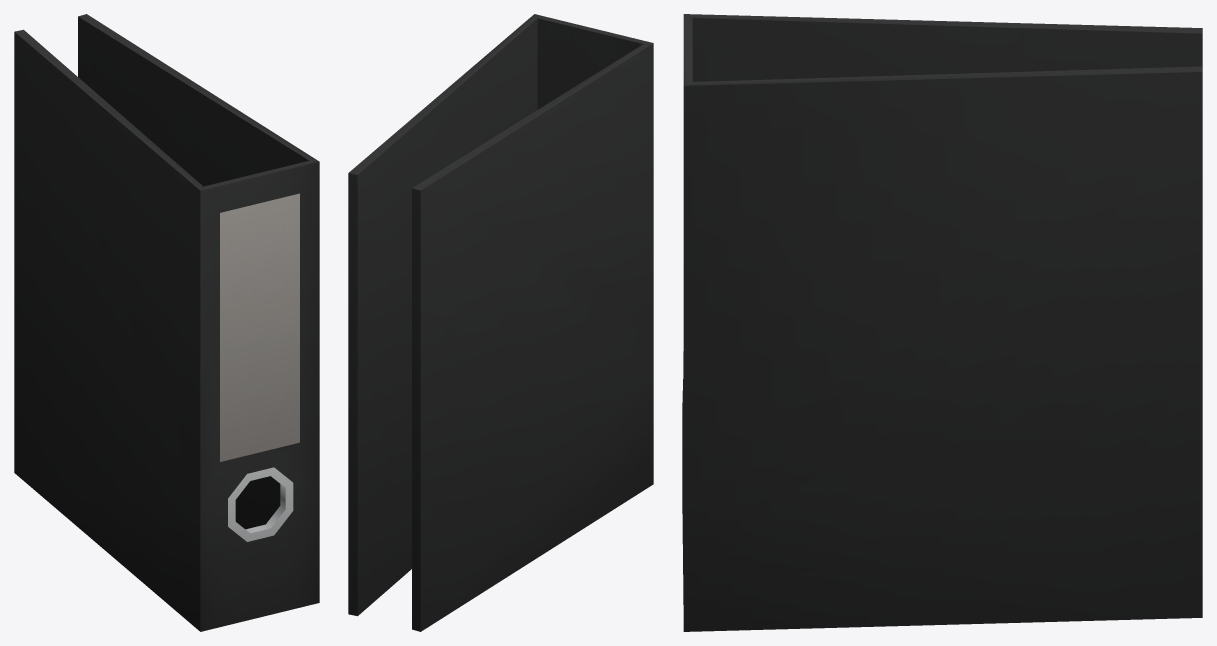
File: RingBinder_Black.fbx
3 views of the same model, side by side, from view 1: azimuth 30°, elevation 25°; view 2: azimuth 150°, elevation 25°; view 3: azimuth 270°, elevation 25° (orthographic). The views are drawn at different scales.
Visible parts, largest first — view 1: RingBinder_Black; view 2: RingBinder_Black; view 3: RingBinder_Black.
Part boxes in pixels (x1,y1,x2,y2): RingBinder_Black: [14, 14, 319, 631]; RingBinder_Black: [348, 14, 653, 631]; RingBinder_Black: [682, 14, 1202, 631].
Size of the model in its own units: 8.98 by 31.76 by 27.42.
